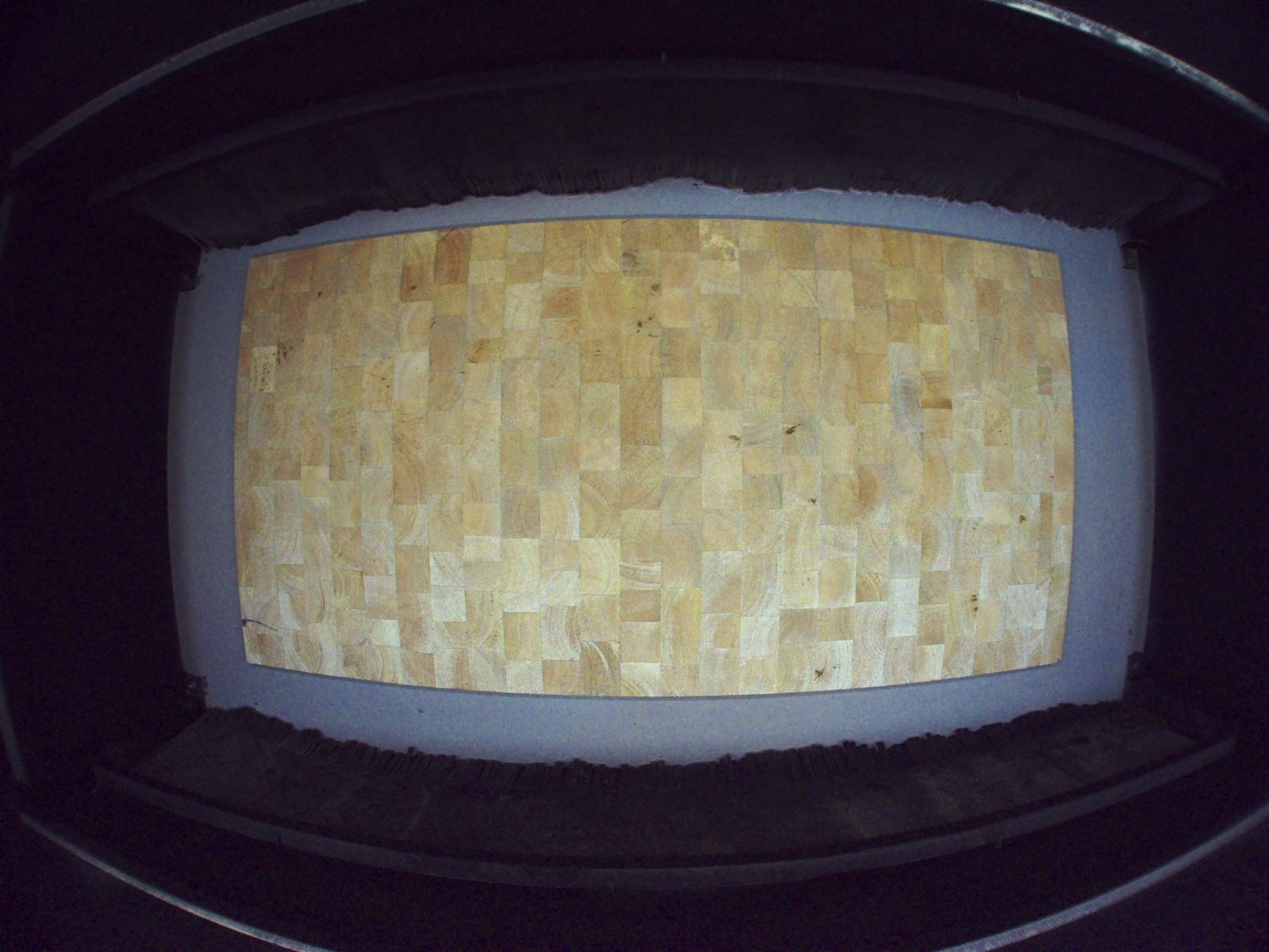nudillo: (242, 614, 249, 629)
sheck_ecuatoriano: (815, 658, 828, 682)
